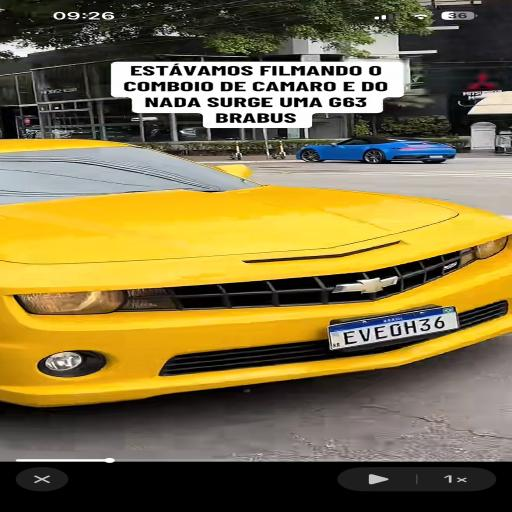detec-o-placas: (160, 224, 512, 385)
